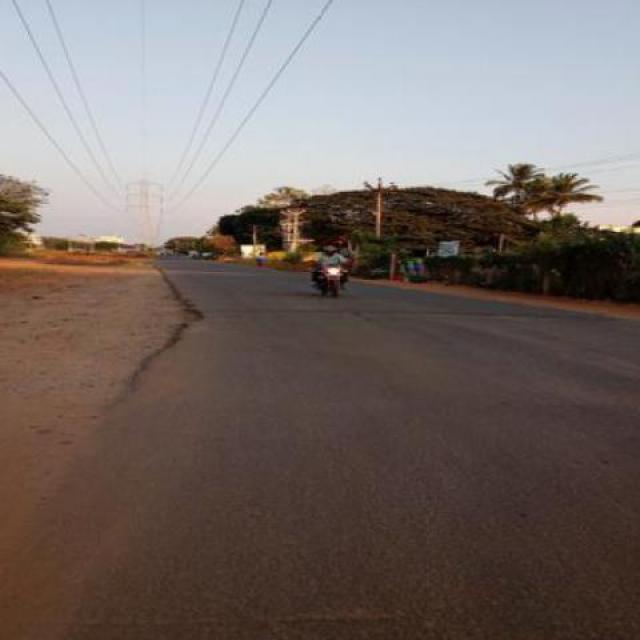Unmarked Bump: (186, 304, 629, 322)
